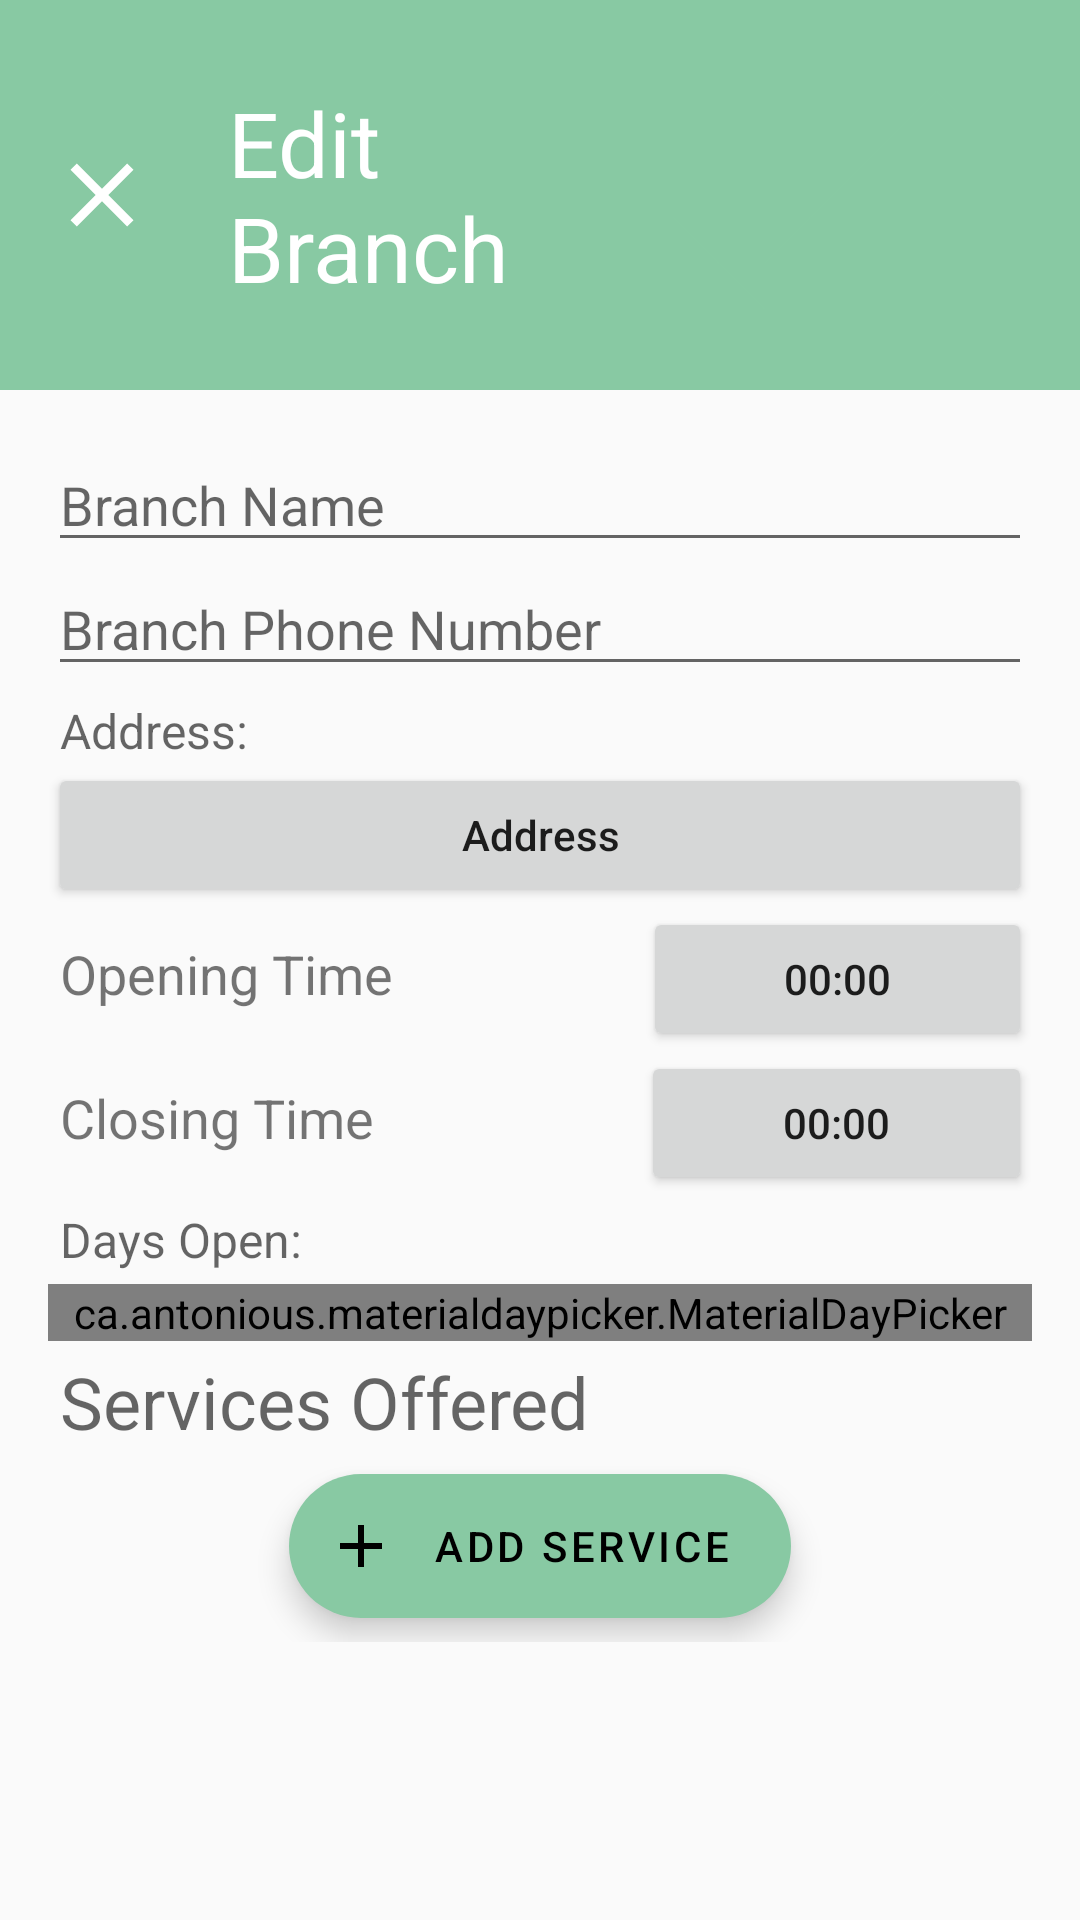

Named icons in this screenshot (1080×1920) and their bounding boxes, [x1=x1, y1=y1, x2=x2, y2=y2]:
close: [x1=71, y1=164, x2=133, y2=226]
